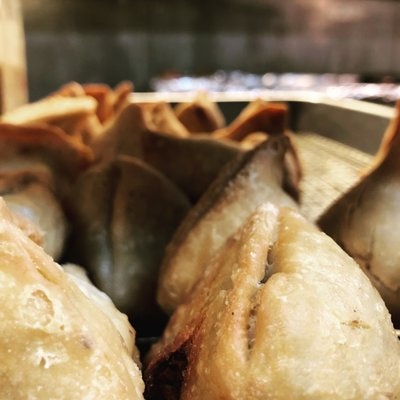salad: (141, 132, 399, 399)
